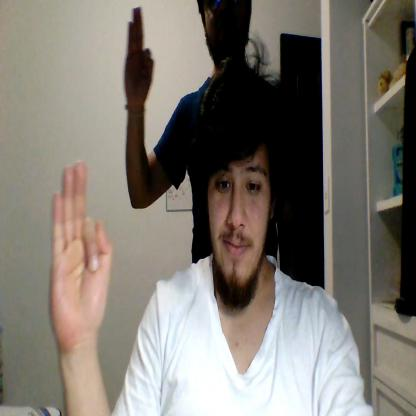F: (49, 161, 112, 341)
